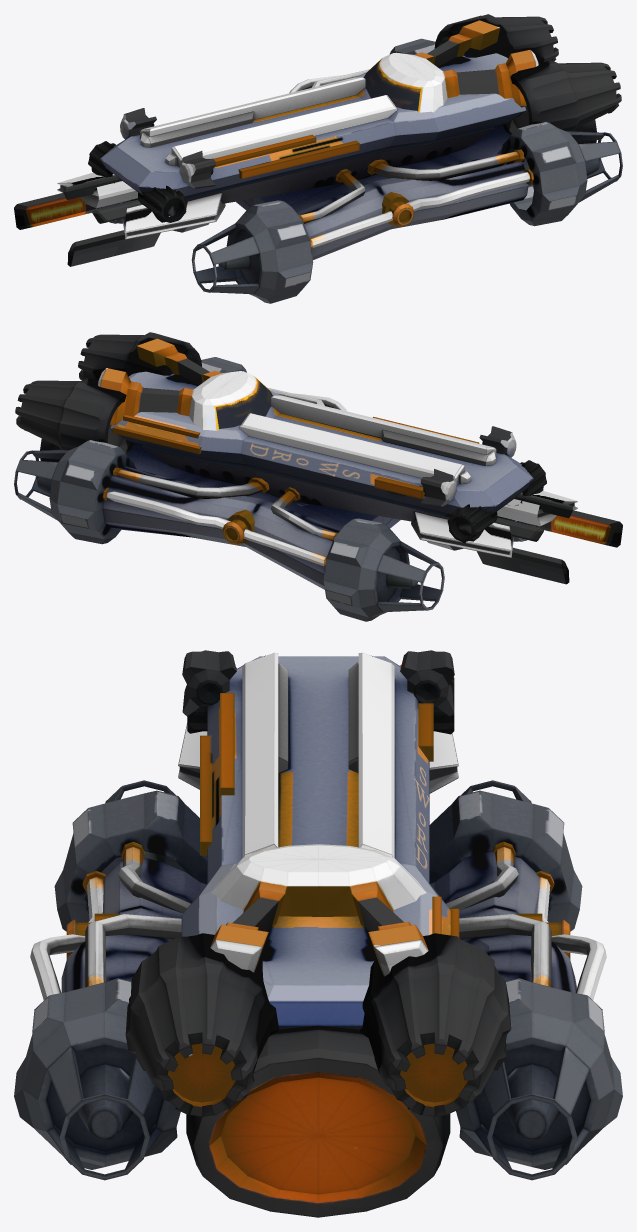
File: sword.fbx
3 renders of one model, top to bottom at view 1: azimuth 30°, elevation 25°; view 2: azimuth 150°, elevation 25°; view 3: azimuth 270°, elevation 25°, orthographic. The views are drawn at different scales.
Parts seen in each view (by area): view 1: polySurface10; view 2: polySurface10; view 3: polySurface10.
Part boxes in pixels (left/top/right/bottom): polySurface10: left=14, top=14, right=622, bottom=303; polySurface10: left=14, top=332, right=622, bottom=621; polySurface10: left=14, top=650, right=622, bottom=1217.
Size of the model in its own units: 185 by 50.38 by 98.19.
